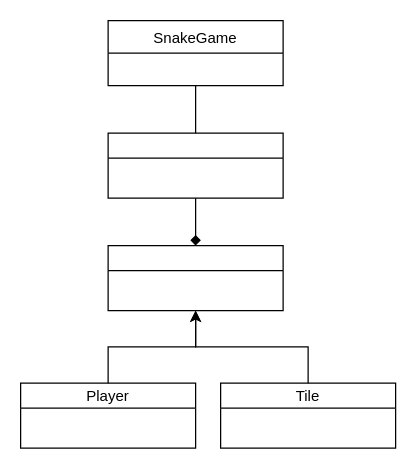
Image size: 416x469. Some labels were removed from this diagram. Here are the shapes that lost their labels. From the top down, the box of each, then its label:
(107, 132, 283, 198): GameBoard
(107, 244, 283, 311): GameObject
